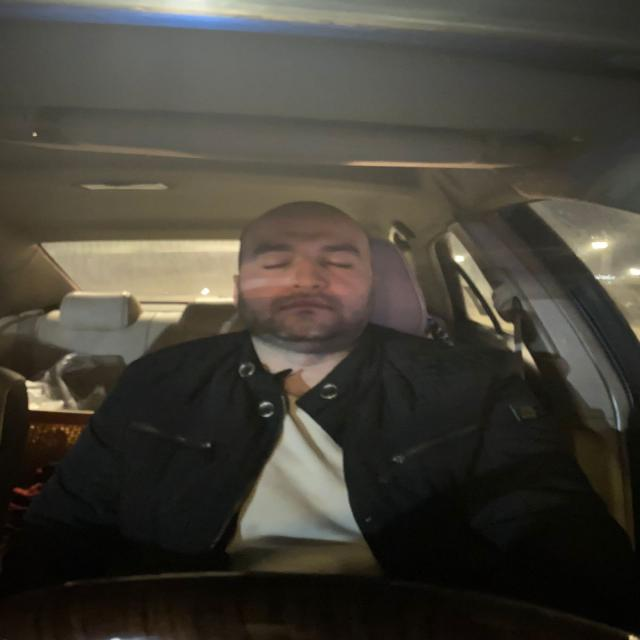drowsy: (251, 206, 389, 344)
